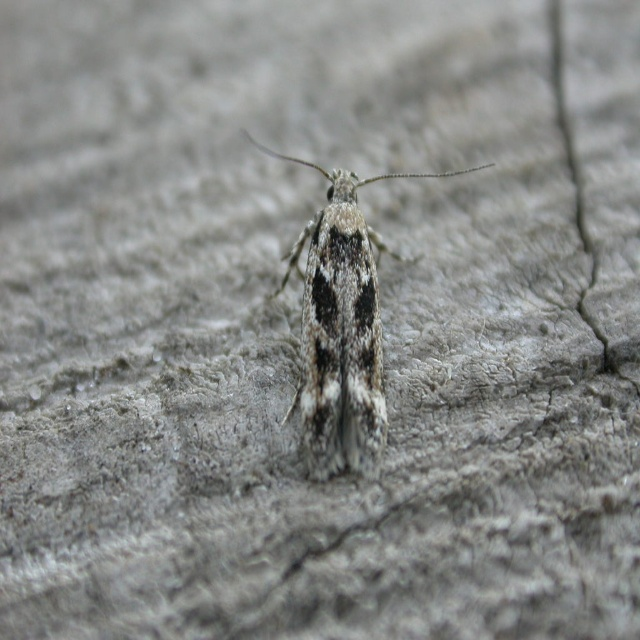Moths and butterflies: (239, 127, 496, 483)
